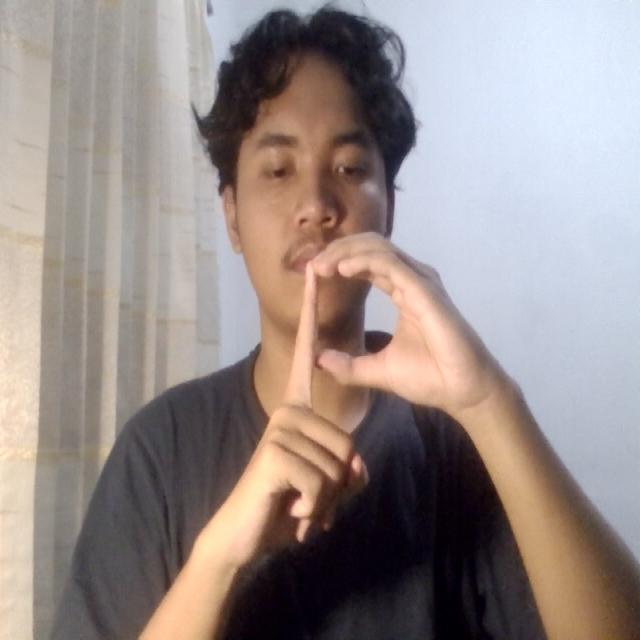D: (221, 219, 480, 572)
